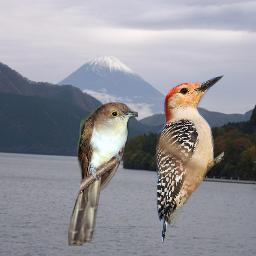Cuckoo: (68, 101, 138, 246)
Woodpecker: (156, 74, 224, 243)
